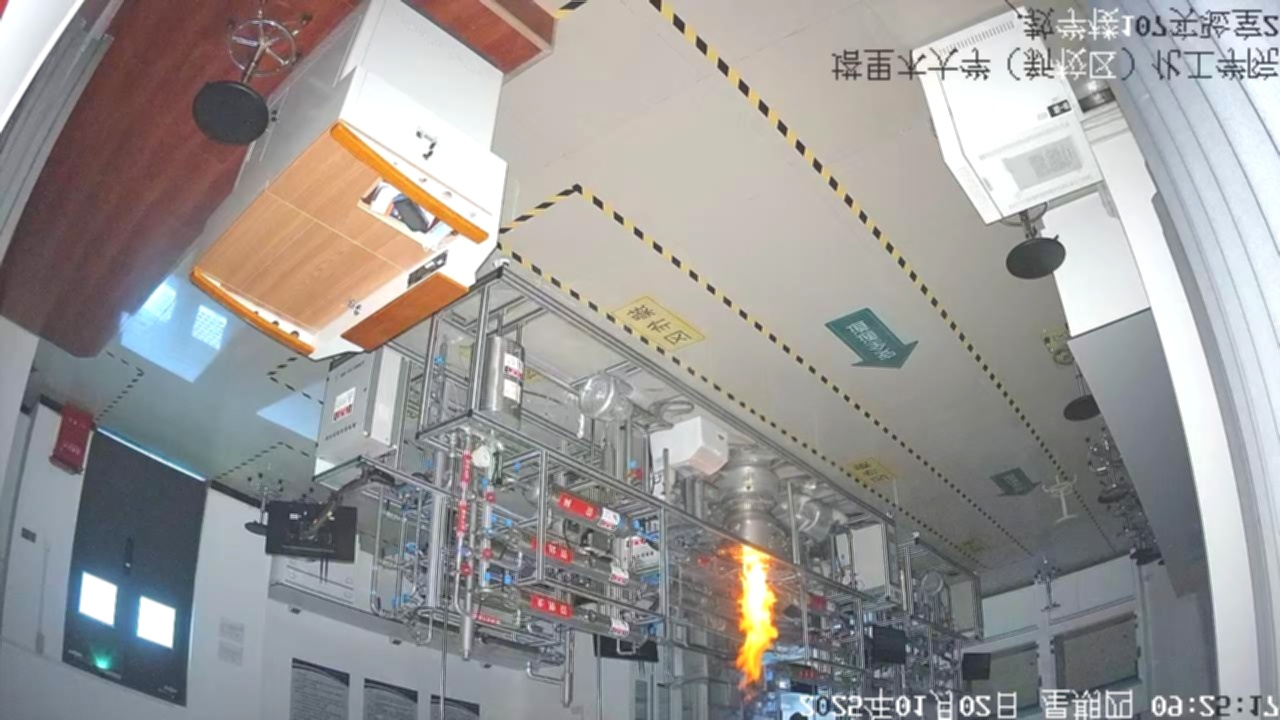fire: (724, 530, 821, 691)
